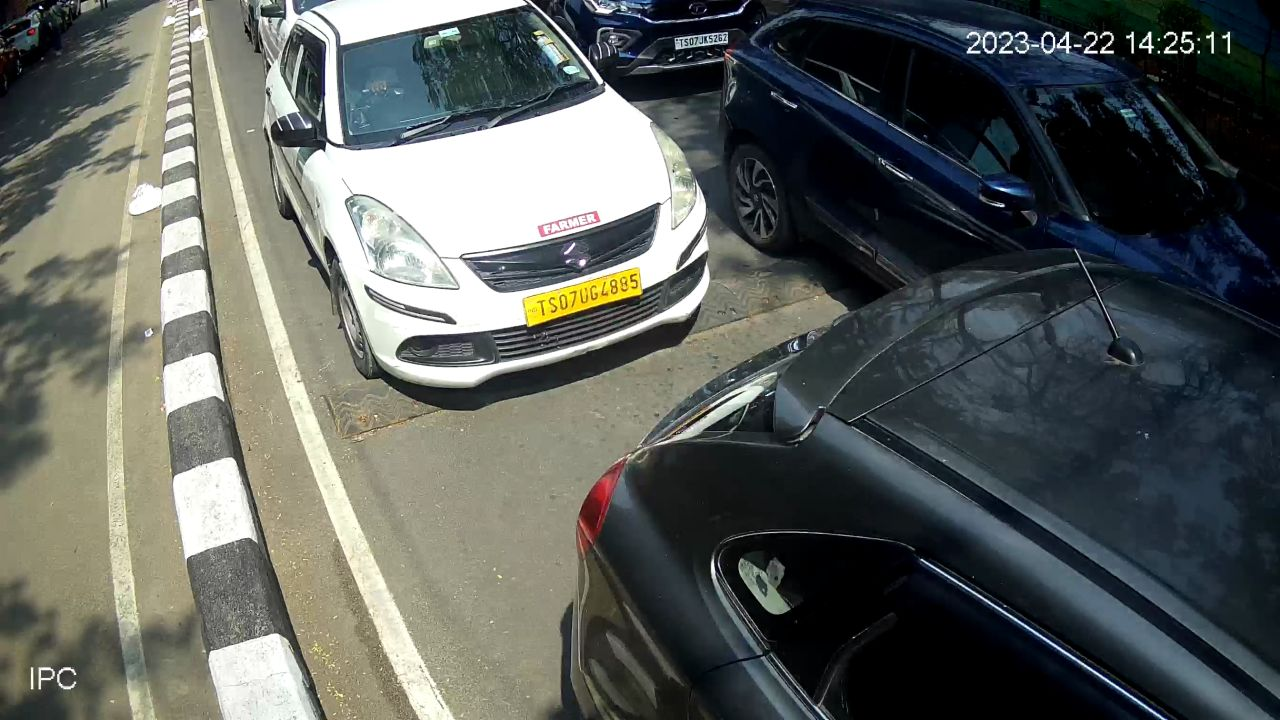license_plate: (518, 261, 648, 334), (670, 27, 733, 55)
